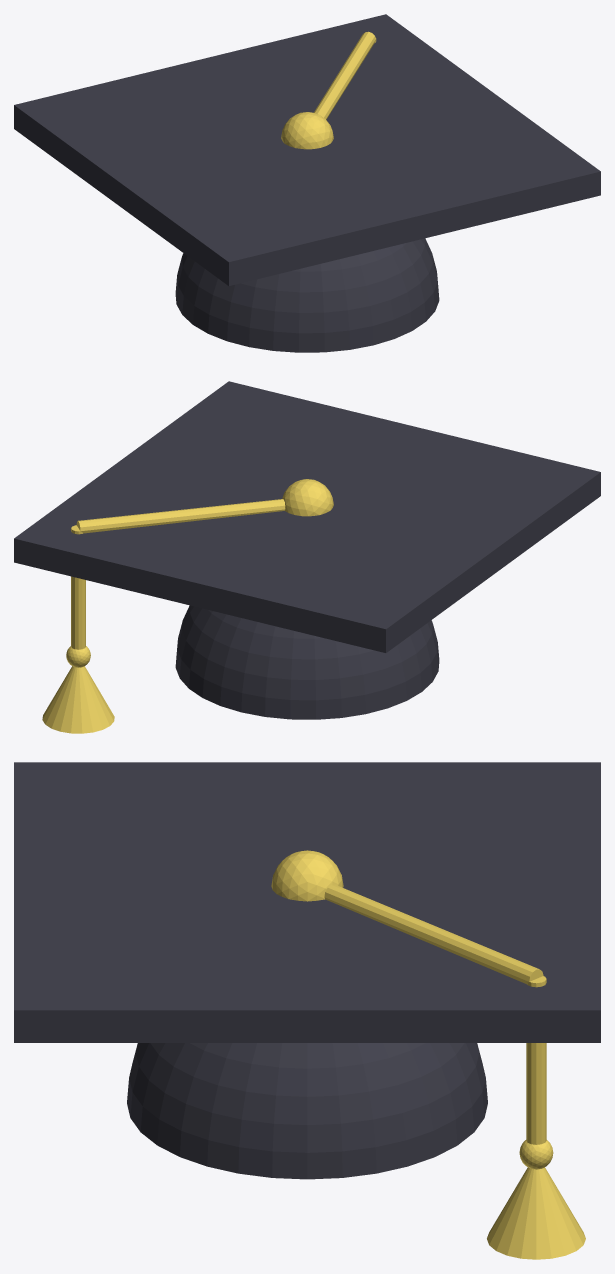
The model's file is graduation_cap.glb.
3 renders of one model, top to bottom at view 1: azimuth 30°, elevation 25°; view 2: azimuth 150°, elevation 25°; view 3: azimuth 270°, elevation 25°, orthographic. The views are drawn at different scales.
Parts seen in each view (by area): view 1: board, dome, button, cordA; view 2: board, dome, bunch, cordA, button, cordB; view 3: board, dome, bunch, cordA, button, cordB, knot.
Boxes of the visible parts, box(x1,y1,x2,y2) form: board: box(14, 14, 600, 285); dome: box(175, 238, 439, 352); button: box(281, 112, 333, 149); cordA: box(314, 31, 375, 119); board: box(14, 381, 600, 652); dome: box(175, 605, 439, 719); bunch: box(42, 666, 114, 733); cordA: box(76, 499, 285, 533); button: box(282, 479, 333, 516); cordB: box(71, 525, 85, 649); board: box(14, 762, 600, 1042); dome: box(127, 1043, 487, 1179); bunch: box(487, 1167, 585, 1259); cordA: box(324, 884, 543, 984); button: box(271, 850, 343, 901); cordB: box(526, 976, 546, 1144); knot: box(519, 1140, 553, 1169).
Bounding box in the file's own units: 2.6 × 1.41 × 2.6.
